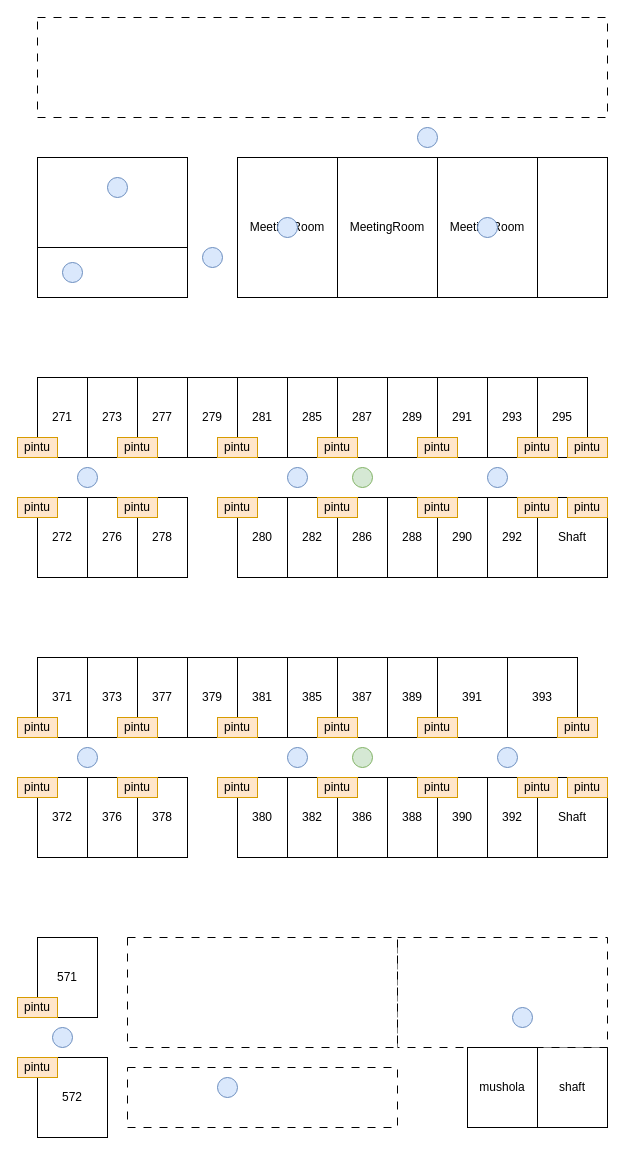
Some shapes in this 625 by 1155 pixel diagram are drawn without their labels. Here are the shapes that lost their labels. From the top down, the box of each, then its label:
(36, 16, 608, 118): depan luar
(36, 156, 188, 248): Lobby
(536, 156, 608, 298): Shaft server
(36, 246, 188, 298): office
(126, 936, 398, 1048): pool
(396, 936, 608, 1048): resto lt5
(126, 1066, 398, 1128): bar
